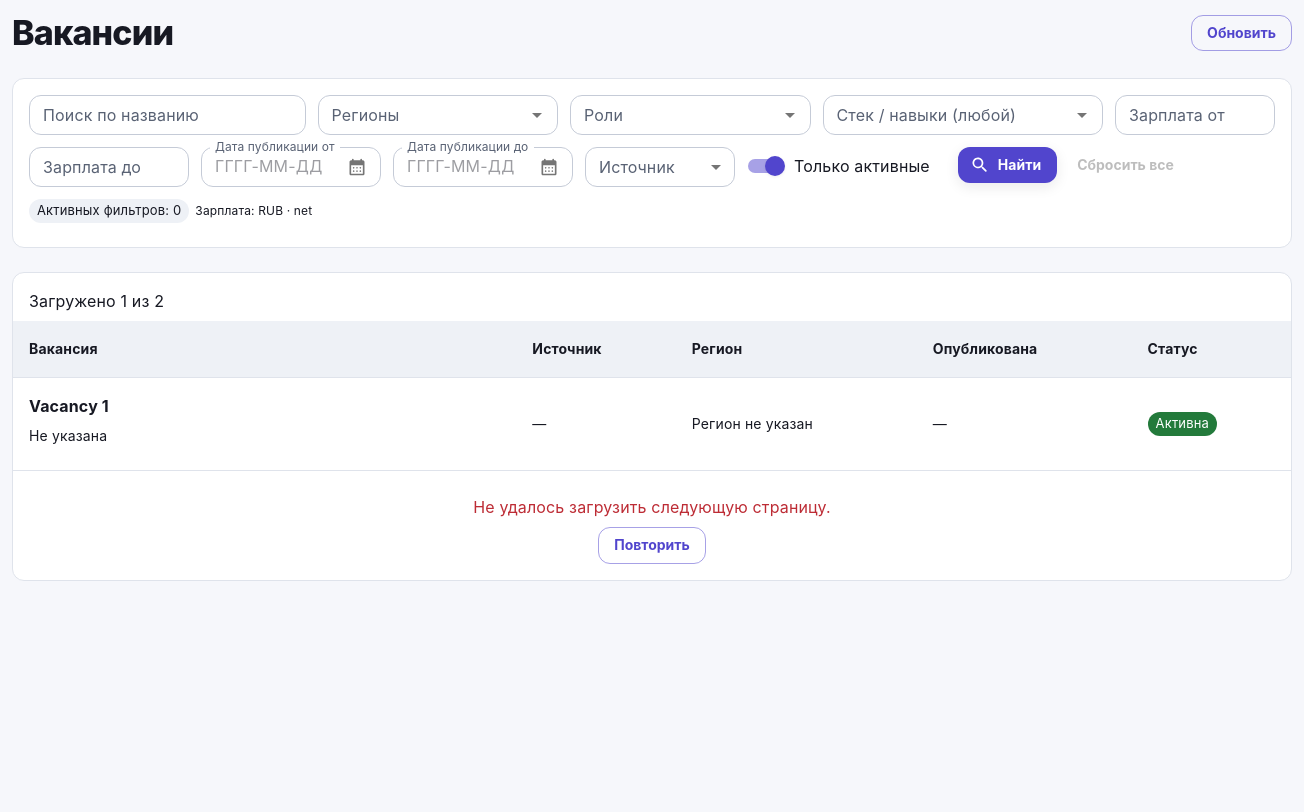
Scenario: VacanciesPage › retries a failed next page from the fallback button
expect the text "Vacancy 1" is shown: met, box x1=29 y1=394 x2=109 y2=418
expect the text "Не удалось загрузить следующую страницу." is shown: met, box x1=473 y1=495 x2=831 y2=519
Click the button "Повторить". click: (652, 545)
box: x1=598 y1=527 x2=706 y2=564
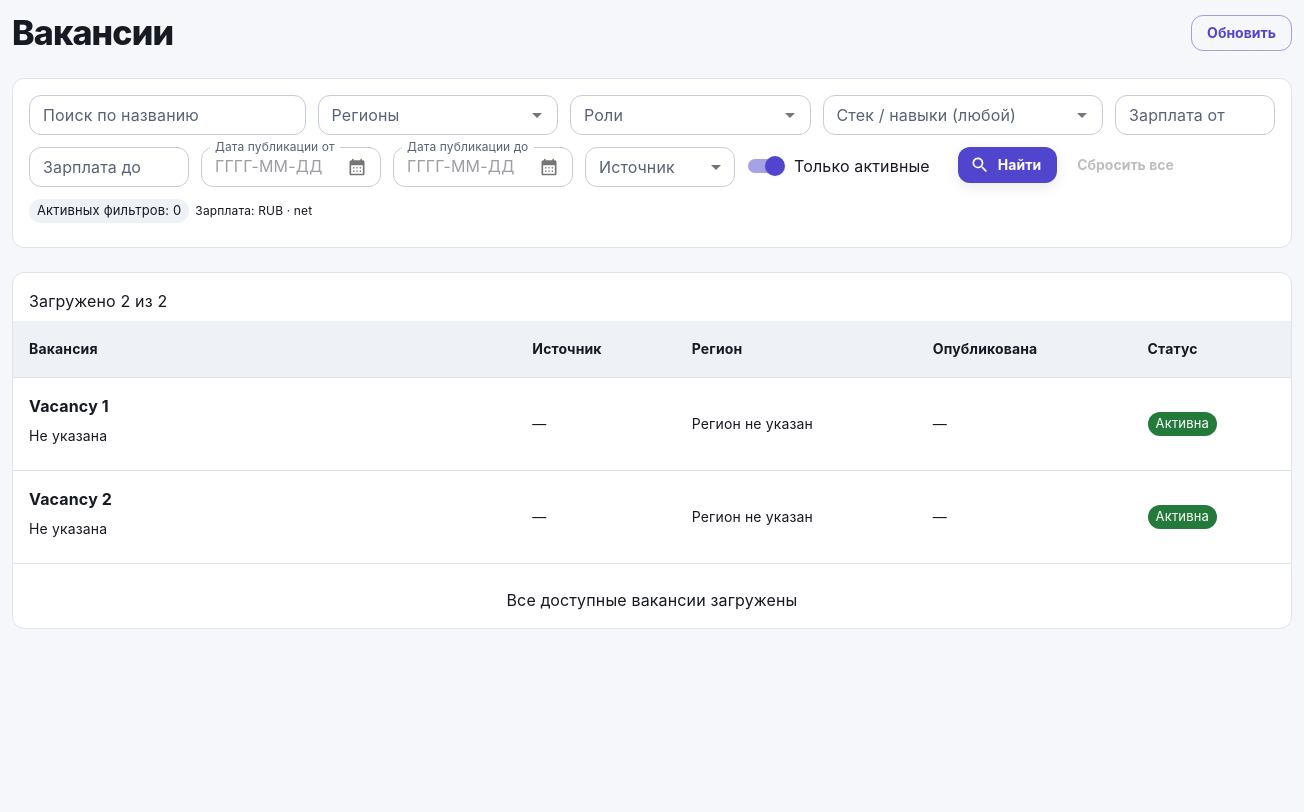
expect the text "Vacancy 2" is shown: met, box x1=29 y1=487 x2=112 y2=511
